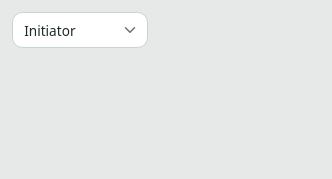
Scenario: UserRoleCell › disables the dropdown while saving
Click the dropdown named "Roll för Erik Eriksson".
click(80, 30)  # box [12,12,148,48]
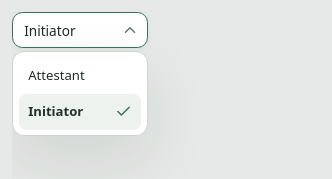
Click the option "Attestant".
click(56, 75)  # box [28,66,85,84]
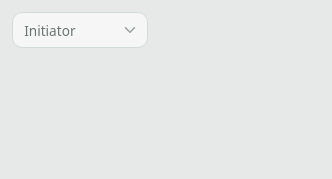
Now the dropdown named "Roll för Erik Eriksson" is disabled, box [12,12,148,48]
